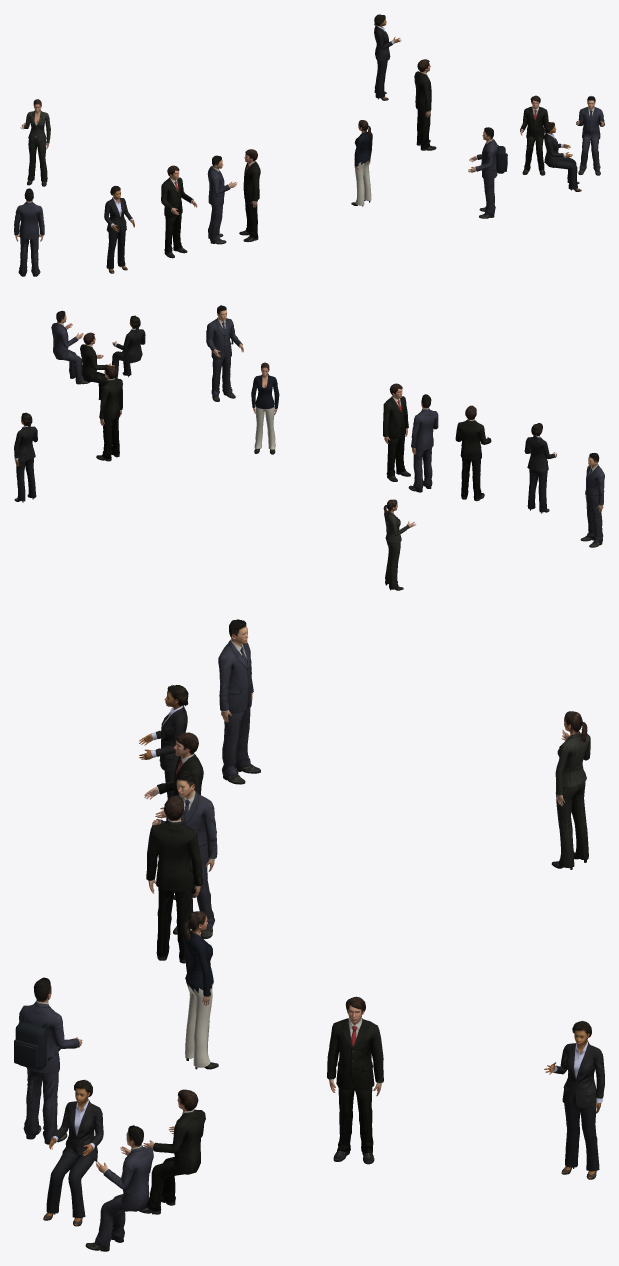
The model's file is projection-visitors-v6.glb.
3 renders of one model, top to bottom at view 1: azimuth 30°, elevation 25°; view 2: azimuth 150°, elevation 25°; view 3: azimuth 270°, elevation 25°, orthographic. The views are drawn at different scales.
Visible parts, largest first — view 1: Projection visitor | Business_Male_02 | idle part 0, Projection visitor | Business_Male_01 | operator part 0, Projection visitor | Business_Female_01 | operator part 0, Projection visitor | Business_Female_04 | talk part 0, Projection visitor | Business_Male_01 | projection-seated pa, Projection visitor | Business_Male_02 | projection-seated pa, Projection visitor | Business_Male_01 | idle part 0.001, Projection visitor | Business_Male_01 | idle part 0, Projection visitor | Business_Male_02 | operator part 0, Projection visitor | Business_Male_02 | talk part 0, Projection visitor | Business_Female_04 | idle part 0, Projection visitor | Business_Female_01 | projection-seated  (+1 smaller); view 2: Projection visitor | Business_Male_02 | operator part 0, Projection visitor | Business_Male_01 | idle part 0, Projection visitor | Business_Male_01 | operator part 0, Projection visitor | Business_Male_02 | talk part 0, Projection visitor | Business_Male_01 | idle part 0.001, Projection visitor | Business_Female_04 | idle part 0, Projection visitor | Business_Female_01 | operator part 0, Projection visitor | Business_Female_01 | talk part 0, Projection visitor | Business_Male_02 | idle part 0, Projection visitor | Business_Female_04 | talk part 0, Projection visitor | Business_Male_02 | projection-seated pa, Projection visitor | Business_Female_01 | projection-seated  (+1 smaller); view 3: Projection visitor | Business_Male_01 | idle part 0.001, Projection visitor | Business_Male_01 | idle part 0, Projection visitor | Business_Female_01 | talk part 0, Projection visitor | Business_Male_02 | idle part 0, Projection visitor | Business_Female_01 | projection-seated , Projection visitor | Business_Female_04 | talk part 0, Projection visitor | Business_Male_02 | operator part 0, Projection visitor | Business_Female_04 | idle part 0, Projection visitor | Business_Male_02 | projection-seated pa, Projection visitor | Business_Male_01 | projection-seated pa, Projection visitor | Business_Male_02 | talk part 0, Projection visitor | Business_Female_01 | operator part 0 (+2 smaller).
Boxes of the visible parts, box(x1,y1,x2,y2) form: Projection visitor | Business_Male_02 | idle part 0: box(14, 188, 44, 276); Projection visitor | Business_Male_01 | operator part 0: box(161, 165, 197, 258); Projection visitor | Business_Female_01 | operator part 0: box(104, 186, 134, 273); Projection visitor | Business_Female_04 | talk part 0: box(20, 99, 50, 186); Projection visitor | Business_Male_01 | projection-seated pa: box(520, 95, 548, 175); Projection visitor | Business_Male_02 | projection-seated pa: box(576, 96, 604, 175); Projection visitor | Business_Male_01 | idle part 0.001: box(414, 59, 436, 150); Projection visitor | Business_Male_01 | idle part 0: box(239, 149, 260, 241); Projection visitor | Business_Male_02 | operator part 0: box(468, 127, 497, 218); Projection visitor | Business_Male_02 | talk part 0: box(207, 155, 237, 244); Projection visitor | Business_Female_04 | idle part 0: box(351, 120, 372, 206); Projection visitor | Business_Female_01 | projection-seated : box(544, 122, 581, 191); Projection visitor | Business_Male_02 | operator part 0: box(207, 305, 243, 401); Projection visitor | Business_Male_01 | idle part 0: box(383, 383, 410, 481); Projection visitor | Business_Male_01 | operator part 0: box(455, 405, 491, 501); Projection visitor | Business_Male_02 | talk part 0: box(408, 394, 438, 492); Projection visitor | Business_Male_01 | idle part 0.001: box(96, 365, 122, 461); Projection visitor | Business_Female_04 | idle part 0: box(251, 362, 279, 454); Projection visitor | Business_Female_01 | operator part 0: box(524, 423, 556, 513); Projection visitor | Business_Female_01 | talk part 0: box(14, 412, 37, 502); Projection visitor | Business_Male_02 | idle part 0: box(580, 453, 604, 547); Projection visitor | Business_Female_04 | talk part 0: box(383, 499, 416, 590); Projection visitor | Business_Male_02 | projection-seated pa: box(51, 310, 89, 384); Projection visitor | Business_Female_01 | projection-seated : box(112, 315, 145, 378); Projection visitor | Business_Male_01 | idle part 0.001: box(327, 996, 383, 1164); Projection visitor | Business_Male_01 | idle part 0: box(146, 795, 202, 963); Projection visitor | Business_Female_01 | talk part 0: box(544, 1021, 604, 1179); Projection visitor | Business_Male_02 | idle part 0: box(218, 619, 260, 784); Projection visitor | Business_Female_01 | projection-seated : box(43, 1079, 103, 1226); Projection visitor | Business_Female_04 | talk part 0: box(551, 711, 590, 869); Projection visitor | Business_Male_02 | operator part 0: box(18, 977, 82, 1144); Projection visitor | Business_Female_04 | idle part 0: box(183, 911, 218, 1069); Projection visitor | Business_Male_02 | projection-seated pa: box(85, 1125, 153, 1251); Projection visitor | Business_Male_01 | projection-seated pa: box(139, 1089, 205, 1214); Projection visitor | Business_Male_02 | talk part 0: box(152, 770, 217, 938); Projection visitor | Business_Female_01 | operator part 0: box(139, 685, 188, 799).
Bounding box in the file's own units: 11.8 × 1.78 × 5.93.
Materials: 16 (12 with a texture image).
